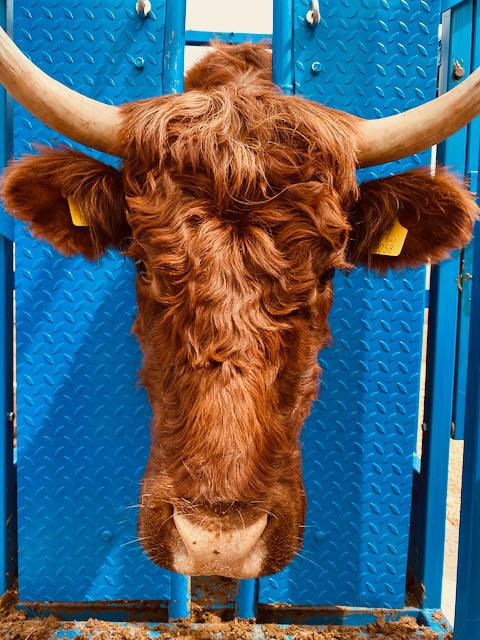muzzles: (130, 485, 307, 582)
